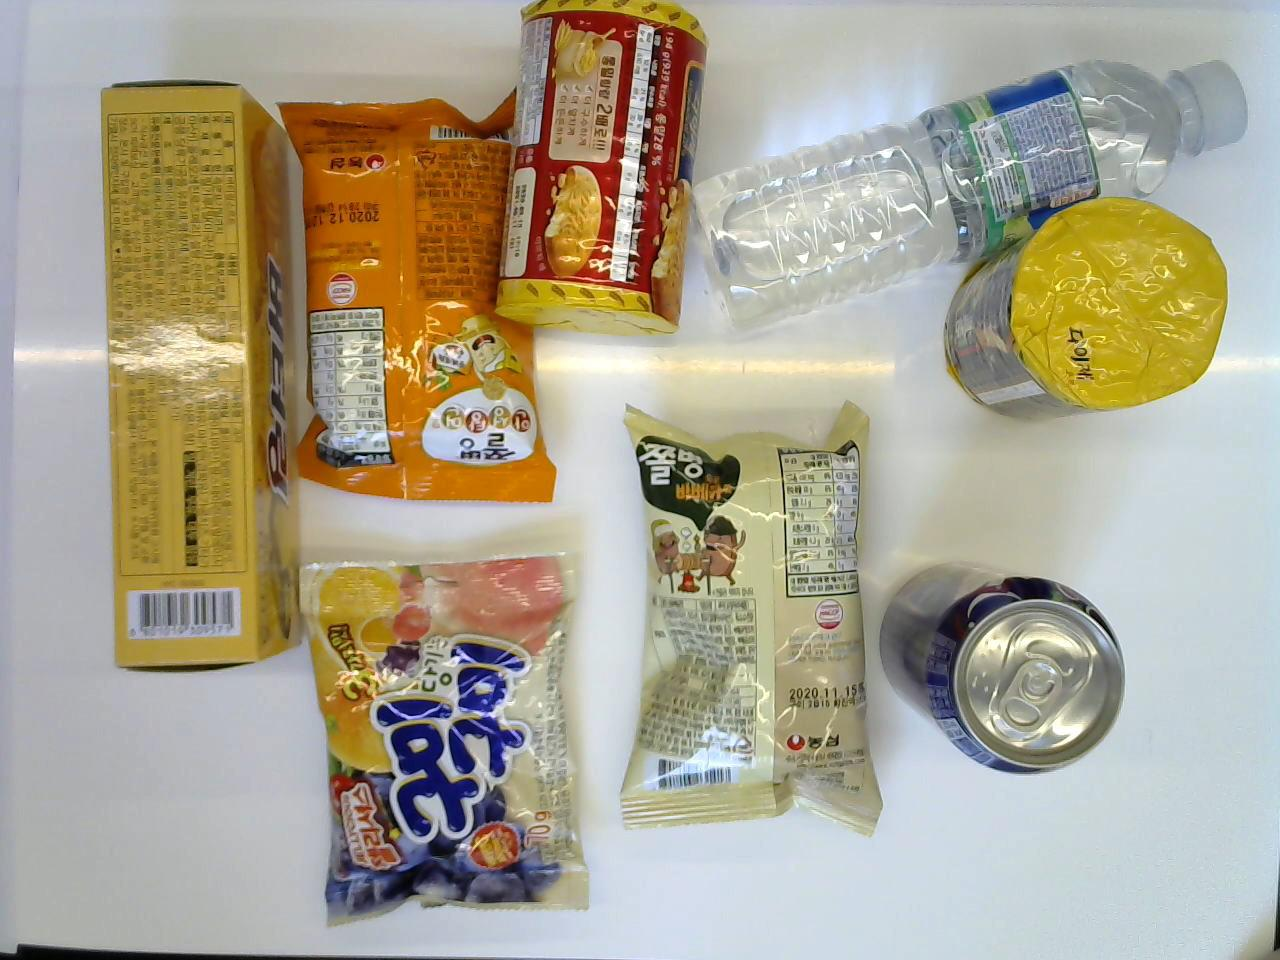buttering: (94, 77, 300, 675)
diget_choco: (937, 200, 1226, 427)
diget_ori: (490, 0, 711, 336)
gumi_gumi: (294, 546, 594, 932)
jjolbyung_noodle: (277, 80, 562, 507)
jjolbyung_ori: (611, 389, 892, 846)
samdasu: (683, 55, 1250, 335)
welchs: (874, 541, 1133, 783)
